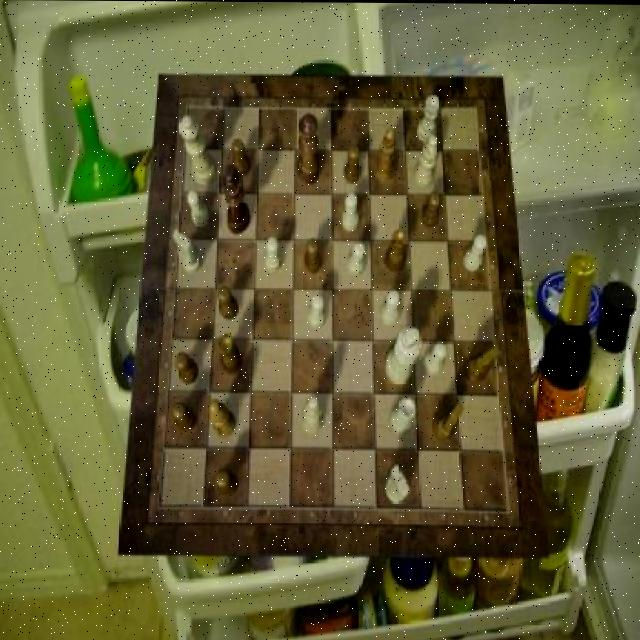bishop: (373, 127, 395, 182), (208, 398, 236, 437)
black-bishop: (222, 163, 249, 234)
black-king: (463, 346, 499, 384), (432, 403, 463, 443)
black-knight: (216, 286, 239, 320), (172, 401, 196, 432), (174, 352, 197, 384), (420, 192, 440, 228), (232, 138, 250, 177), (344, 145, 361, 184), (215, 470, 237, 498), (304, 239, 321, 273)
black-pawn: (298, 112, 322, 185)
black-queen: (384, 228, 408, 272), (218, 334, 242, 375)
black-rook: (413, 134, 437, 189), (301, 395, 323, 434)
white-bishop: (386, 325, 422, 384)
white-king: (172, 229, 202, 274), (386, 464, 410, 502)
white-knight: (464, 233, 488, 271), (187, 190, 209, 228), (424, 341, 448, 375), (381, 288, 400, 324), (307, 293, 325, 327), (347, 241, 365, 275), (263, 237, 280, 273), (342, 193, 358, 231)
white-pawn: (179, 115, 217, 184)
white-queen: (416, 95, 440, 142), (388, 398, 416, 435)
